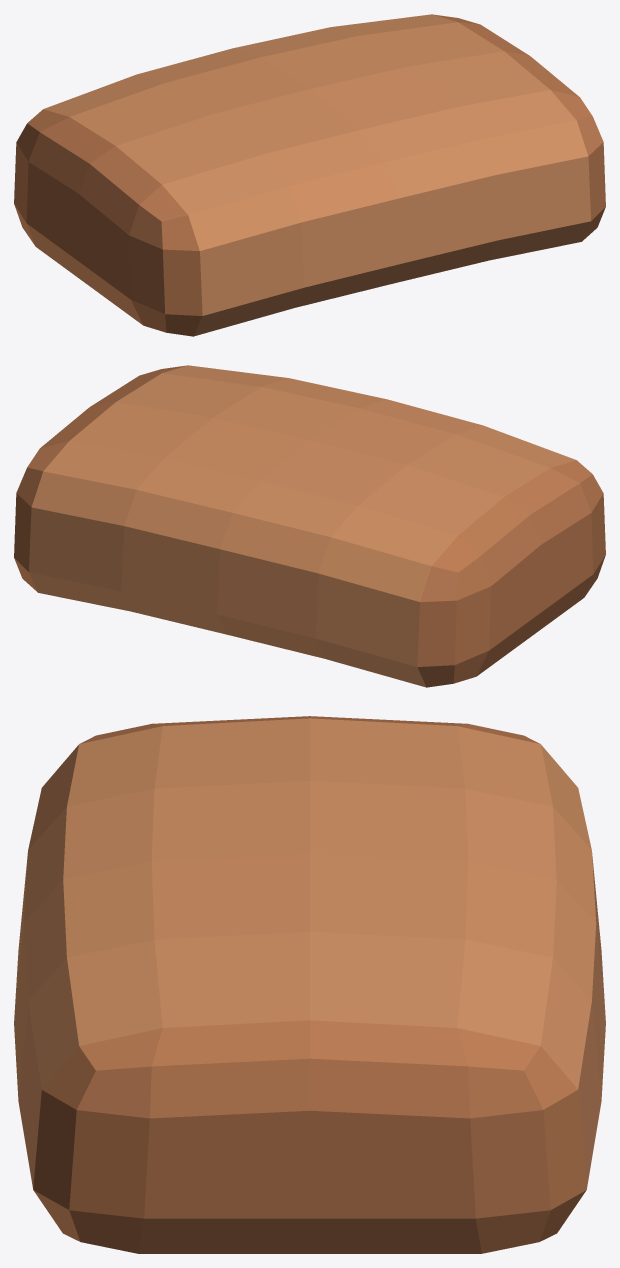
The model's file is Sack_2.fbx.
3 renders of one model, top to bottom at view 1: azimuth 30°, elevation 25°; view 2: azimuth 150°, elevation 25°; view 3: azimuth 270°, elevation 25°, orthographic. The views are drawn at different scales.
Parts seen in each view (by area): view 1: Sack_2; view 2: Sack_2; view 3: Sack_2.
Part boxes in pixels (x1,y1,x2,y2): Sack_2: [14, 14, 605, 336]; Sack_2: [14, 365, 605, 687]; Sack_2: [14, 716, 605, 1253].
Bounding box in the file's own units: 1 × 0.696 × 0.32.
